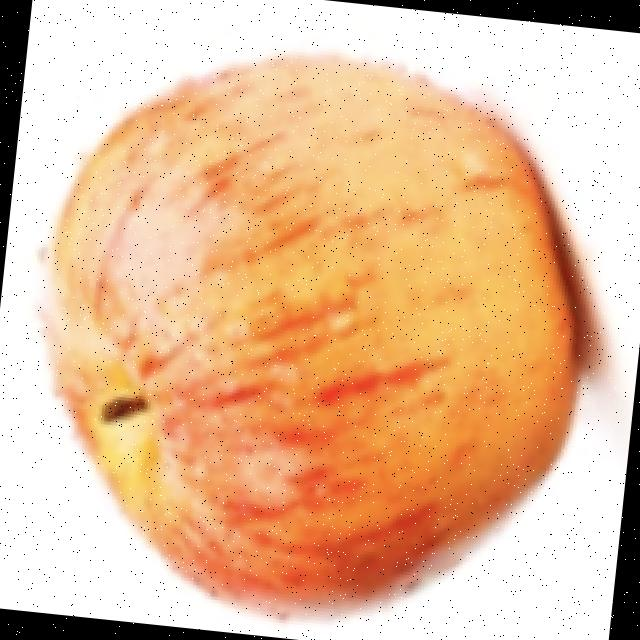apple: (27, 43, 630, 633)
